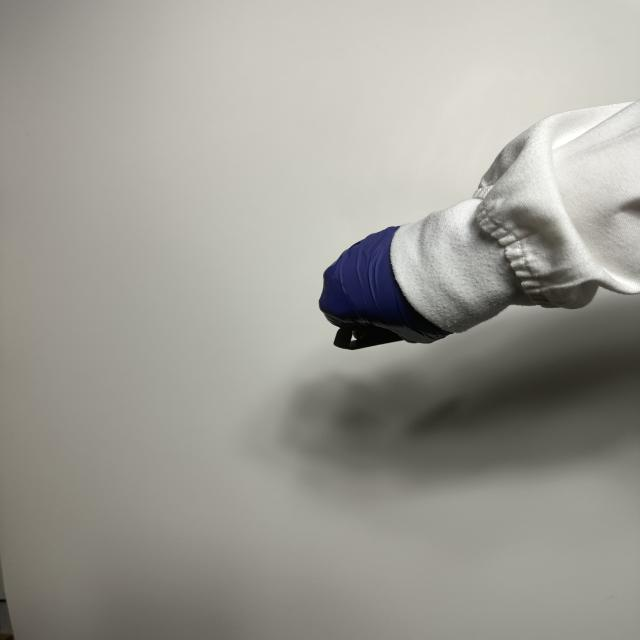gloves_contaminated: (319, 227, 449, 350)
